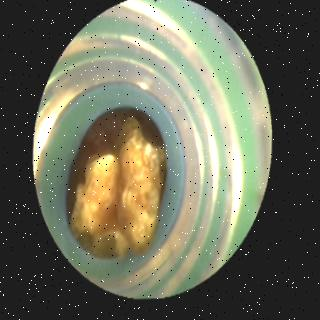stone: (72, 117, 165, 258)
